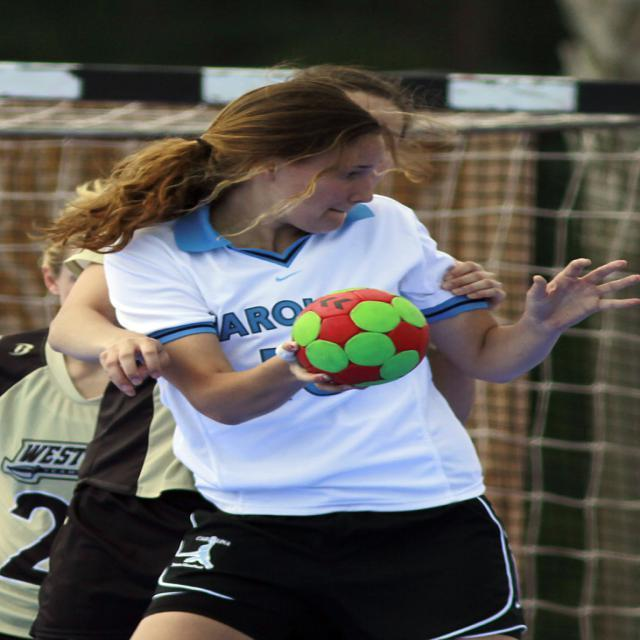football: (286, 284, 435, 405)
